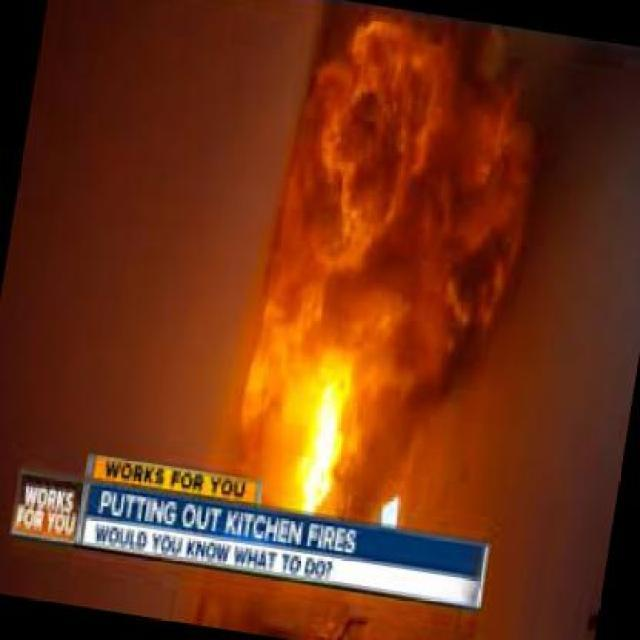Fire: (290, 380, 352, 520)
Smoke: (264, 182, 532, 345), (309, 22, 552, 190), (361, 351, 479, 499)
